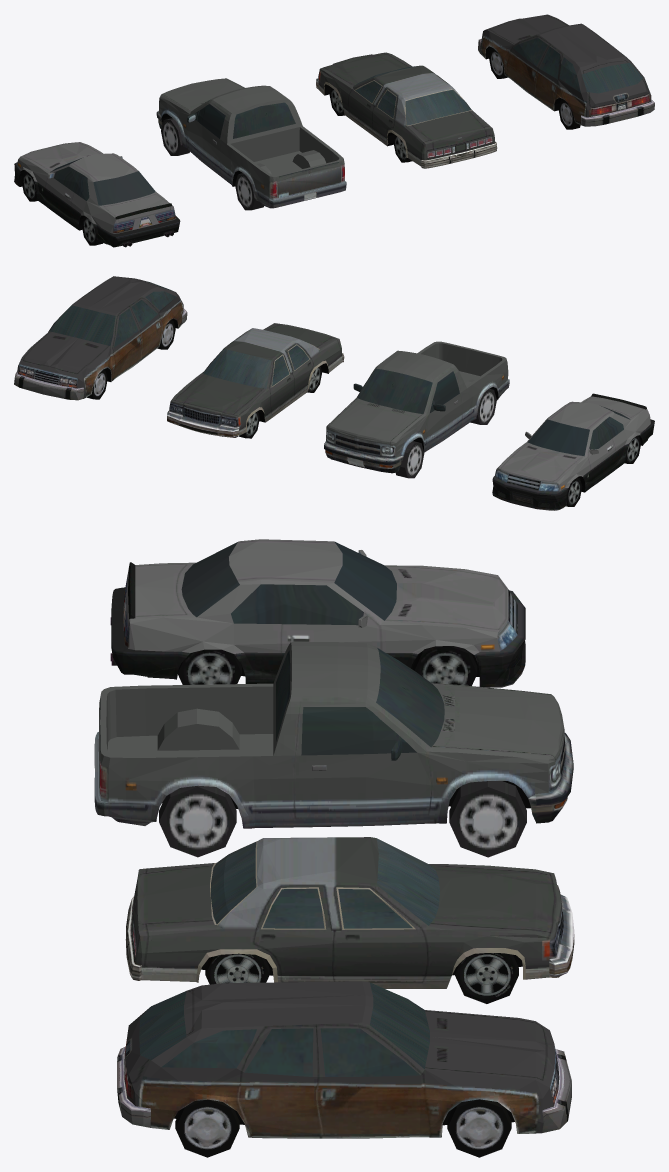
The model's file is cars.fbx.
3 renders of one model, top to bottom at view 1: azimuth 30°, elevation 25°; view 2: azimuth 150°, elevation 25°; view 3: azimuth 270°, elevation 25°, orthographic. The views are drawn at different scales.
Parts seen in each view (by area): view 1: car2, car4, car3, car1; view 2: car2, car4, car3, car1; view 3: car2, car4, car3, car1.
Part boxes in pixels (x1,y1,x2,y2): car2: (156, 78, 346, 210); car4: (478, 14, 654, 129); car3: (316, 52, 497, 168); car1: (14, 142, 180, 247); car2: (324, 341, 509, 478); car4: (14, 276, 187, 400); car3: (167, 323, 344, 438); car1: (492, 393, 654, 510); car2: (94, 642, 573, 857); car4: (117, 981, 571, 1157); car3: (125, 837, 574, 1003); car1: (110, 539, 525, 687).
Bounding box in the file's own units: 111 × 15.39 × 42.72.
1 material, 1 textured.
